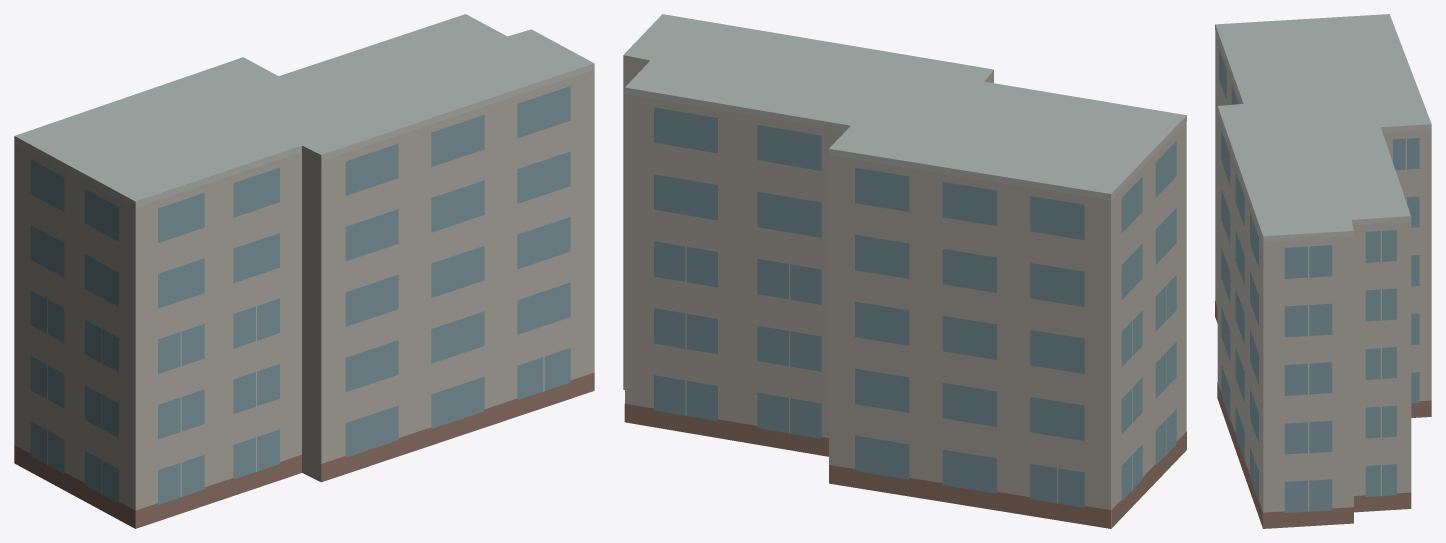
The model's file is survey-upis-32929090.glb.
The picture shows the model from 3 angles, left to right: view 1: azimuth 30°, elevation 25°; view 2: azimuth 150°, elevation 25°; view 3: azimuth 270°, elevation 25°; orthographic projection. The views are drawn at different scales.
Parts seen in each view (by area): view 1: survey-upis-32929090.tmp; view 2: survey-upis-32929090.tmp; view 3: survey-upis-32929090.tmp.
Part boxes in pixels (x1,y1,x2,y2): survey-upis-32929090.tmp: (14, 14, 594, 528); survey-upis-32929090.tmp: (623, 14, 1186, 528); survey-upis-32929090.tmp: (1215, 14, 1431, 528).
Size of the model in its own units: 20.53 by 12.6 by 8.46.
